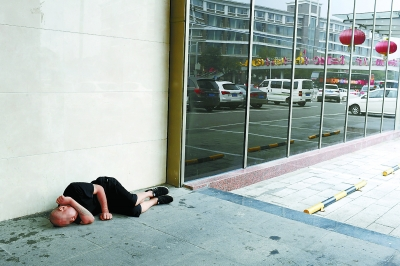fall: (43, 171, 179, 230)
